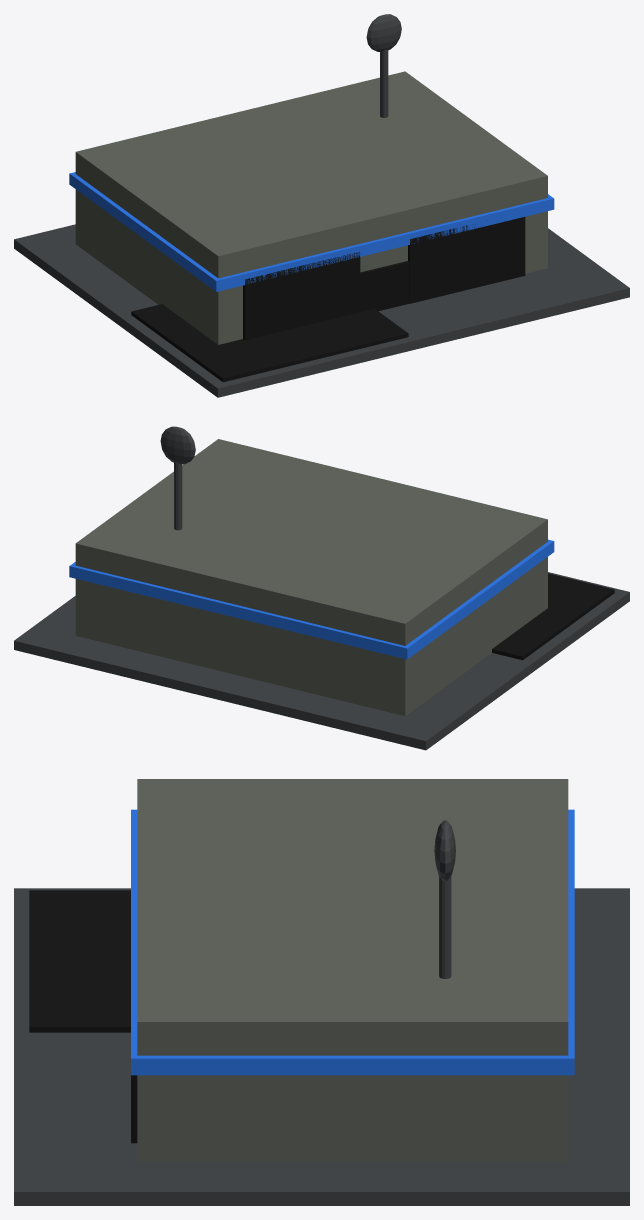
Rendered from eu_airbase.glb.
The picture shows the model from 3 angles, top to bottom: view 1: azimuth 30°, elevation 25°; view 2: azimuth 150°, elevation 25°; view 3: azimuth 270°, elevation 25°; orthographic projection. The views are drawn at different scales.
Parts seen in each view (by area): view 1: main, base, pad, garage_1, garage_0, team_band, door, dish, mast; view 2: main, base, team_band, pad, dish, mast; view 3: main, base, pad, team_band, mast, dish.
Boxes of the visible parts, x1,y1,x2,y2 form: main: (75,71,547,344); base: (14,224,629,397); pad: (131,304,408,382); garage_1: (408,217,525,303); garage_0: (243,252,360,340); team_band: (69,172,554,291); door: (360,261,409,311); dish: (366,14,401,51); mast: (380,49,388,117); main: (75,439,547,715); base: (14,572,629,750); team_band: (69,539,554,659); pad: (492,573,614,660); dish: (160,426,195,464); mast: (174,461,182,530); main: (137,779,568,1161); base: (14,888,629,1205); pad: (29,890,130,1032); team_band: (131,809,574,1075); mast: (439,876,451,978); dish: (434,820,455,881).
Bounding box in the file's own units: 14 × 6.6 × 12.
